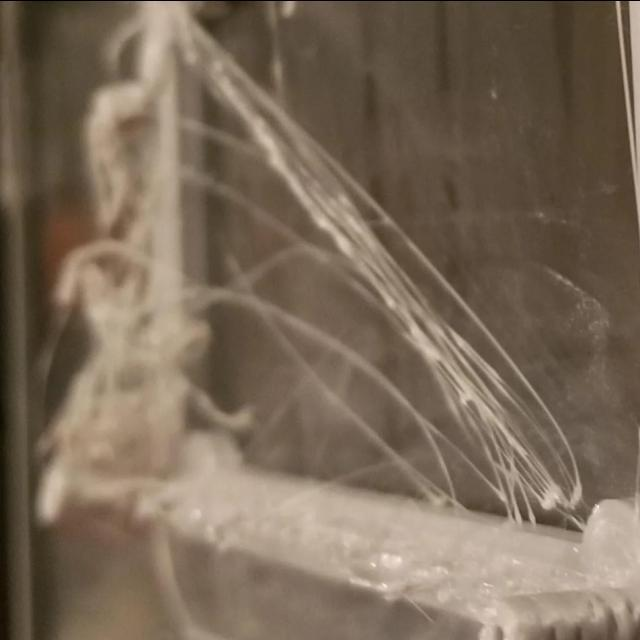Stringing: (180, 8, 603, 527), (222, 226, 486, 505)
